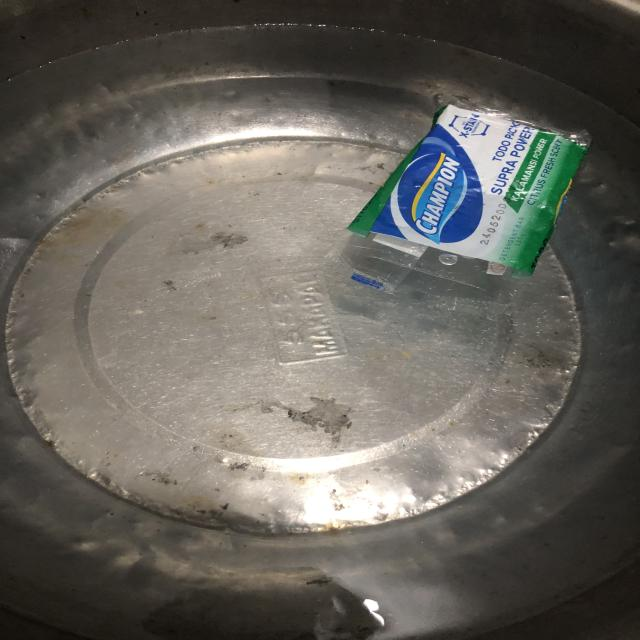Plastic Wrapper: (323, 83, 599, 323)
